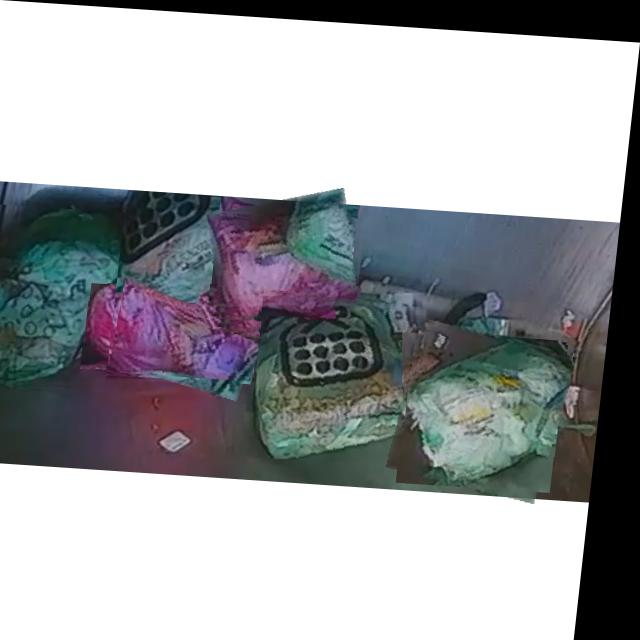general_trashbag: (265, 293, 428, 454), (416, 333, 579, 476), (0, 208, 127, 384)
other_trashbag: (99, 276, 267, 376), (214, 210, 363, 316)
